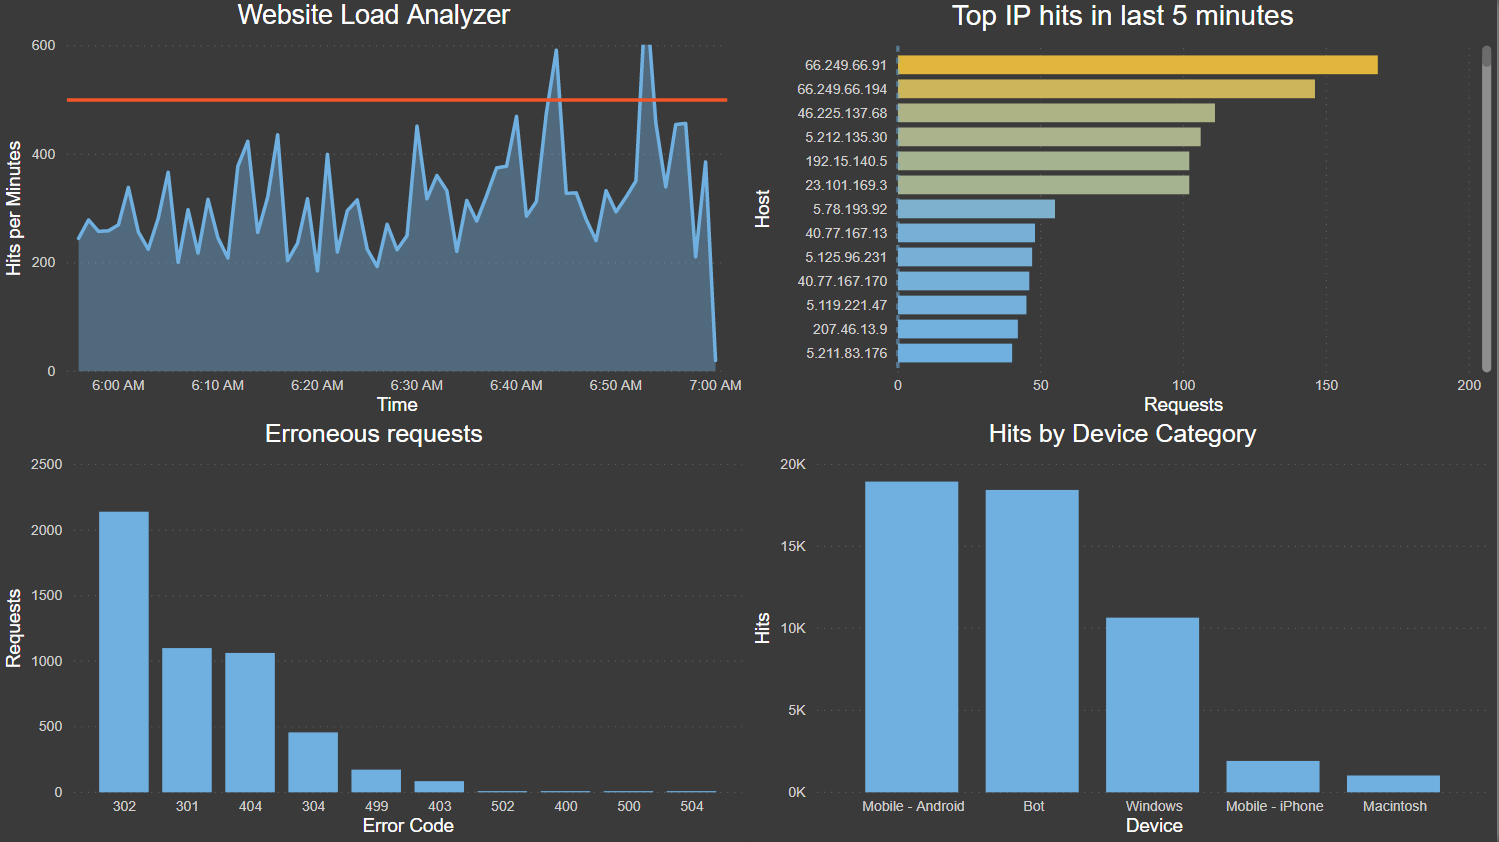

Layout of this report page (visuals, bound fields, positions):
{"tool":"powerbi","page":{"name":"DBA Alerts","canvas":[1280,720],"ordinal":0},"visuals":[{"type":"columnChart","title":"Erroneous requests","fields":{"Y":["Sum(VIZ_4.COUNTER)"],"Category":["VIZ_4.STATUS"]},"box":[0,359.9,640,359.9],"z":0},{"type":"columnChart","title":"Hits by Device Category","fields":{"Y":["Sum(VIZ_3.COU)"],"Category":["VIZ_3.DEVICE_CATEGORY"]},"box":[640,359.9,640,359.9],"z":1000},{"type":"stackedAreaChart","title":"Website Load Analyzer","fields":{"Category":["VIZ_2 (2).DATE_2"],"Y":["Sum(VIZ_2 (2).COUNTER)"]},"box":[0,0,640,359.9],"z":2000},{"type":"barChart","title":"Top IP hits in last 5 minutes","fields":{"Category":["VIZ_6 (3).HOST"],"Y":["Sum(VIZ_6 (3).counter)"]},"box":[640,0,640,359.9],"z":3000}]}

Visuals, with their boxes in screenshot pixels (x1, y1, x2, y2), scaled from the page's 1280x720 canvas onto the 1499x842 screenshot:
"Erroneous requests" columnChart: box(0, 421, 750, 841)
"Hits by Device Category" columnChart: box(750, 421, 1498, 841)
"Website Load Analyzer" stackedAreaChart: box(0, 0, 750, 421)
"Top IP hits in last 5 minutes" barChart: box(750, 0, 1498, 421)
